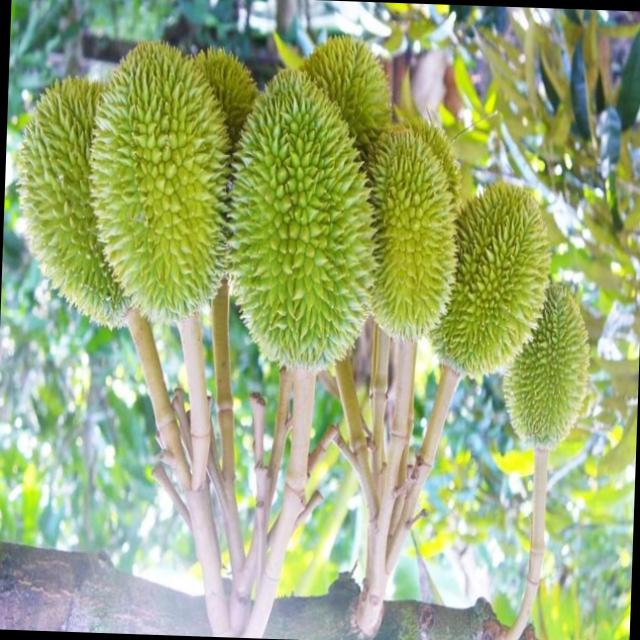Sau Rieng: (223, 77, 379, 376), (86, 51, 241, 332), (14, 82, 138, 334), (428, 180, 555, 378), (362, 122, 466, 344), (500, 285, 592, 448), (304, 24, 398, 158), (196, 53, 262, 158)
